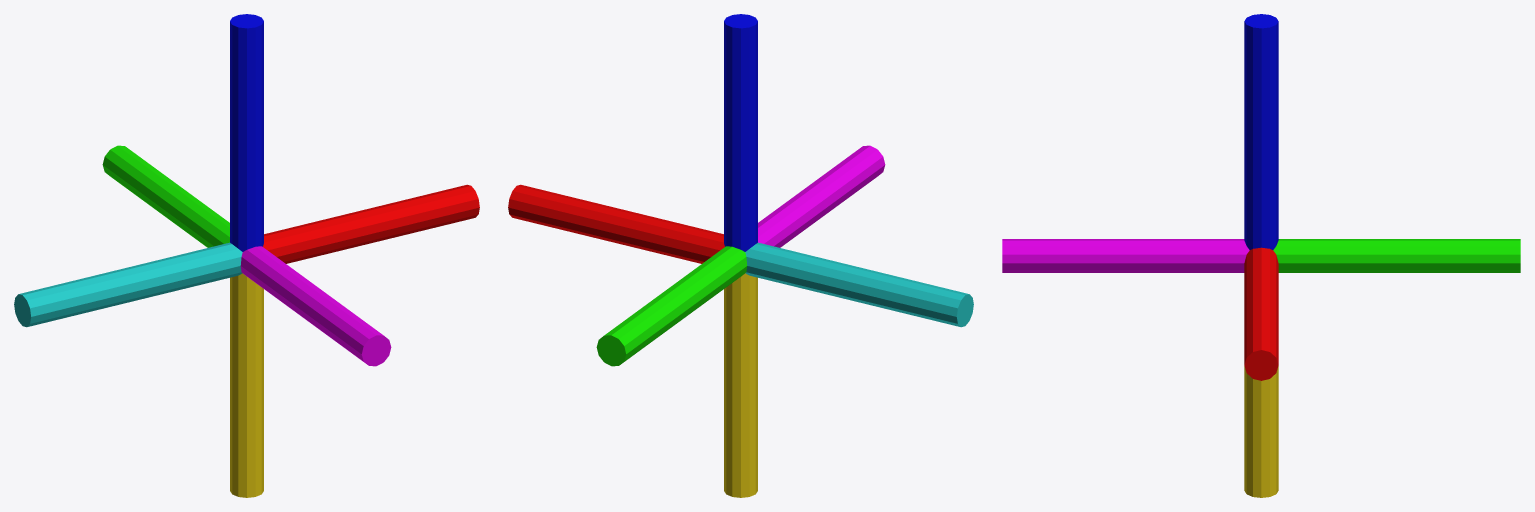
Rendered from Eixos.gltf.
3 views of the same model, side by side, from view 1: azimuth 30°, elevation 25°; view 2: azimuth 150°, elevation 25°; view 3: azimuth 270°, elevation 25° (orthographic).
Visible parts, largest first — view 1: Eixos; view 2: Eixos; view 3: Eixos.
Boxes of the visible parts, box(x1,y1,x2,y2) form: Eixos: box(14, 14, 479, 497); Eixos: box(508, 14, 973, 497); Eixos: box(1002, 14, 1520, 497).
Bounding box in the file's own units: 2 × 2 × 2.
